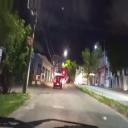NoEstacionar: (28, 36, 33, 47)
